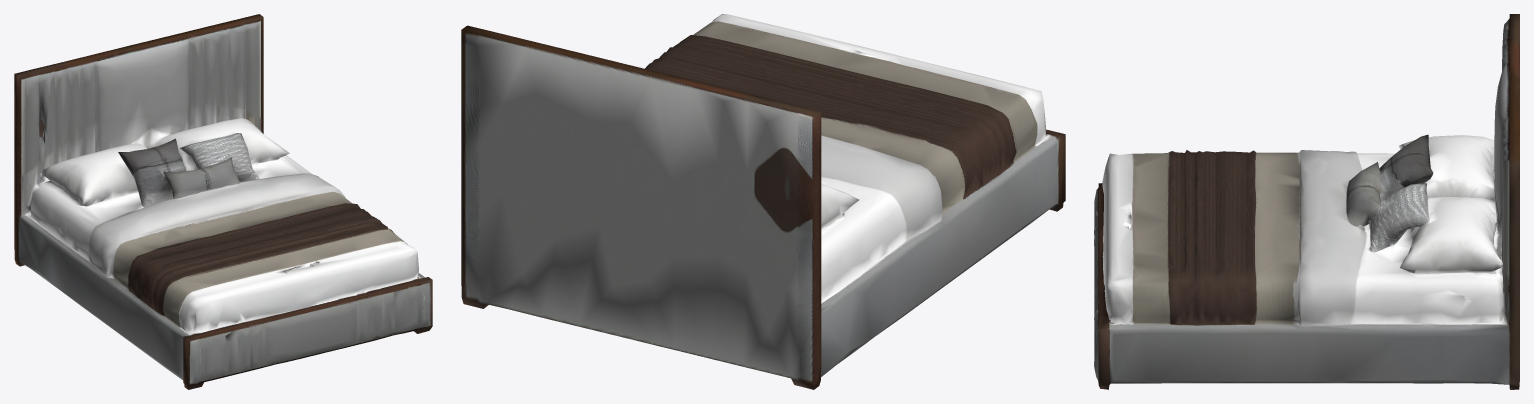
Rendered from 3fc3d3cf-f7df-43e6-ace4-1035bc316b6b.glb.
The picture shows the model from 3 angles, left to right: view 1: azimuth 30°, elevation 25°; view 2: azimuth 150°, elevation 25°; view 3: azimuth 270°, elevation 25°; orthographic projection. The views are drawn at different scales.
Size of the model in its own units: 1.55 by 1.15 by 1.91.
1 material, 1 textured.
